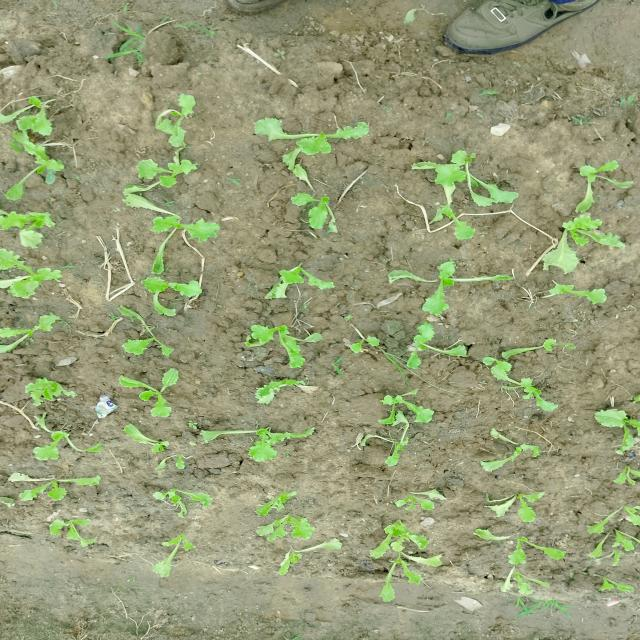Lettuce: (384, 254, 520, 330), (100, 192, 248, 258), (402, 147, 530, 212), (246, 106, 368, 170), (540, 220, 638, 278), (246, 321, 330, 384), (468, 522, 572, 572), (475, 357, 561, 416), (477, 431, 553, 494), (568, 153, 639, 217), (110, 151, 208, 194), (364, 513, 446, 563), (0, 137, 78, 187), (0, 192, 63, 251), (0, 469, 111, 502), (143, 91, 209, 146), (369, 381, 437, 434), (238, 418, 310, 468), (109, 309, 174, 363), (0, 252, 67, 304), (130, 271, 198, 319), (583, 510, 639, 568), (257, 540, 347, 576), (255, 266, 349, 300), (489, 486, 552, 536), (590, 403, 640, 463), (0, 95, 66, 140), (132, 365, 184, 421), (286, 190, 342, 240), (148, 532, 202, 579), (24, 415, 74, 465), (38, 514, 106, 550), (382, 480, 452, 514), (111, 424, 188, 453), (363, 564, 434, 594), (18, 375, 78, 409), (148, 484, 214, 514), (249, 514, 316, 542), (253, 487, 303, 515), (146, 456, 199, 471)
